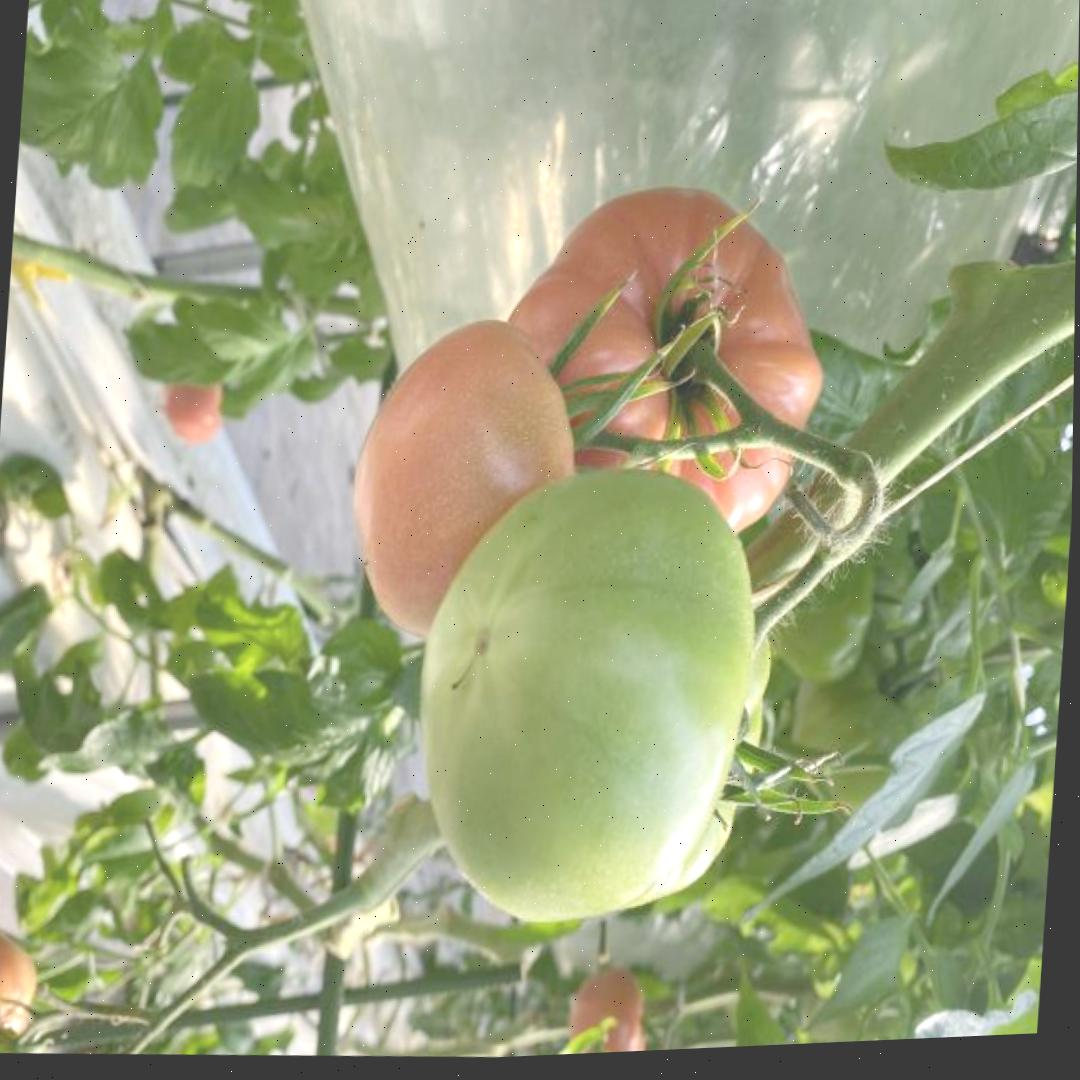matang: (470, 166, 840, 581), (339, 303, 588, 653), (567, 961, 650, 1054), (0, 923, 39, 1055)
mentah: (400, 449, 766, 944)
